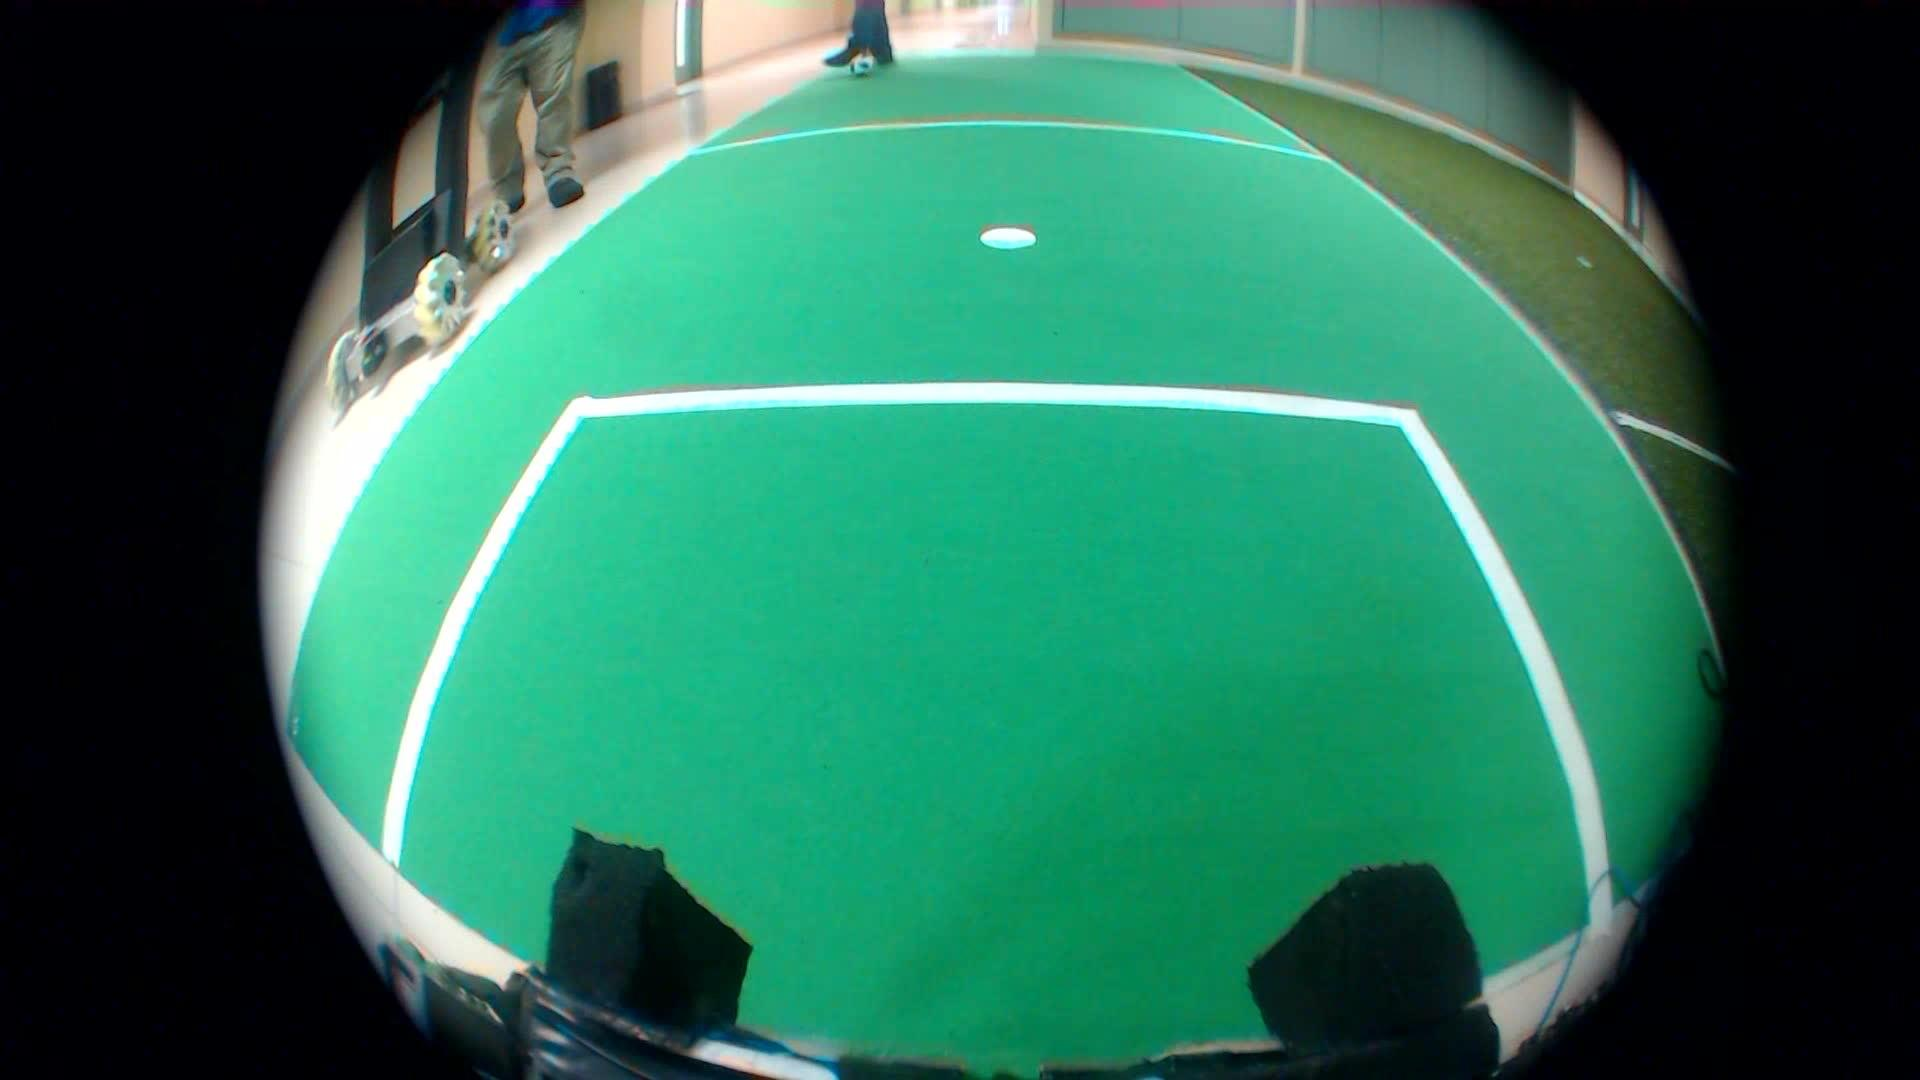ball: (836, 44, 869, 83)
